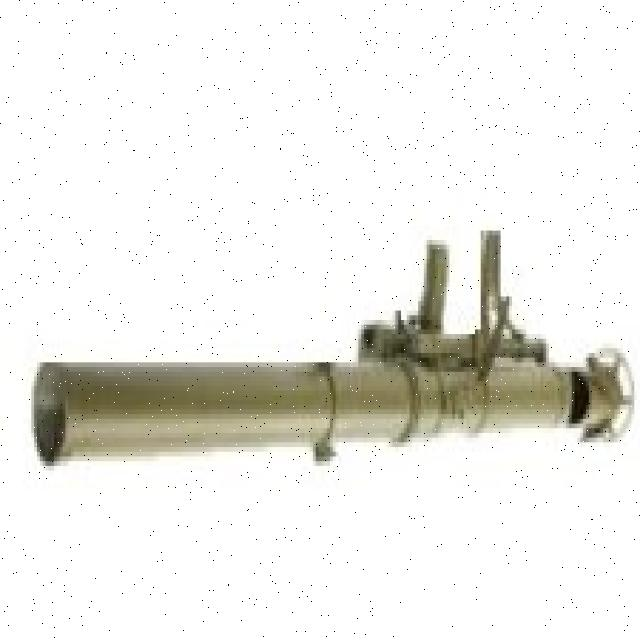bazooka: (24, 222, 640, 495)
